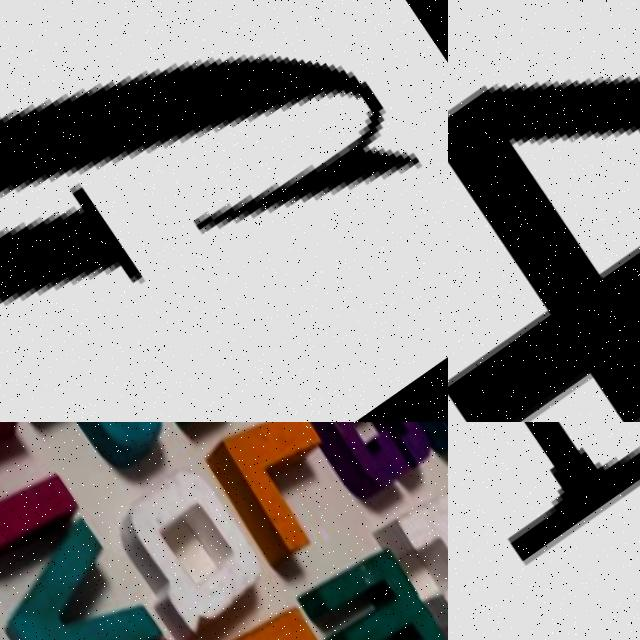G: (0, 0, 448, 422), (300, 422, 446, 498)
H: (376, 471, 448, 628)
L: (195, 422, 381, 579)
M: (300, 540, 448, 640)
P: (20, 422, 186, 499)
Q: (98, 461, 283, 640)
R: (206, 601, 383, 640)
U: (0, 422, 88, 577)
V: (0, 518, 172, 640)
